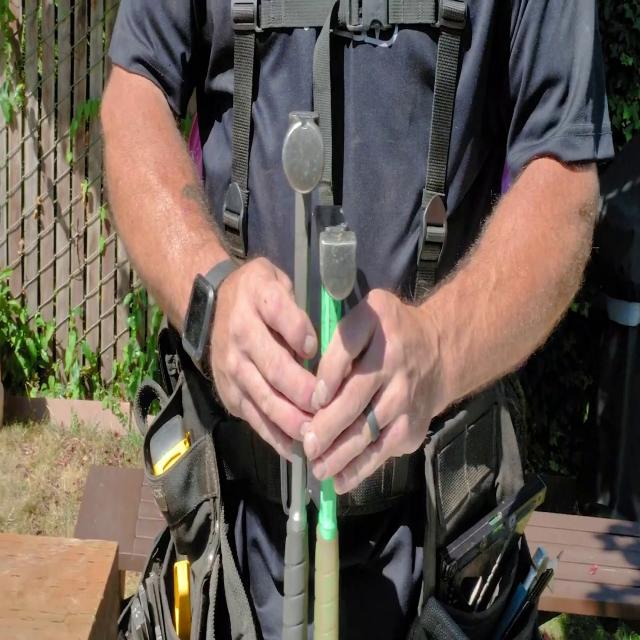hammer: (281, 109, 324, 640), (313, 199, 356, 640)
